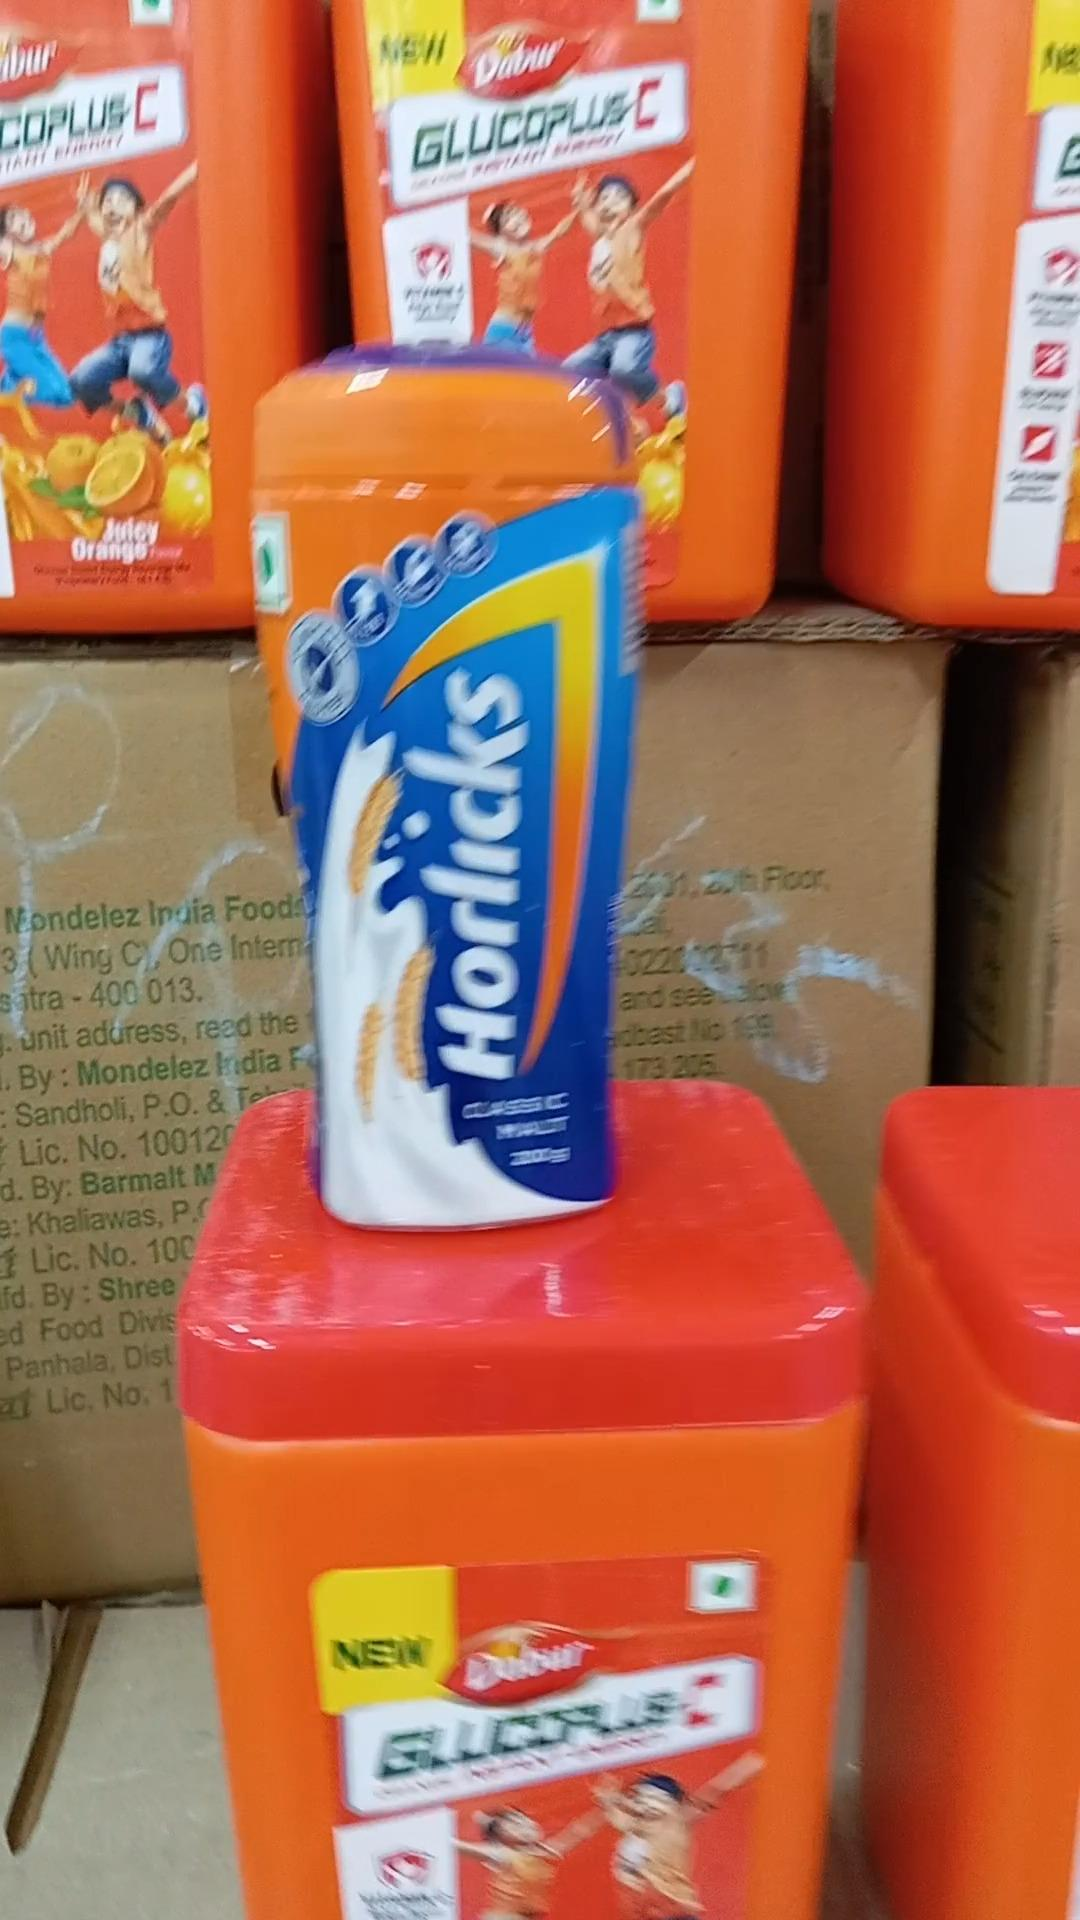HORLICK_CLASSIC_MALT_200_G_JAR: (255, 320, 630, 1233)
